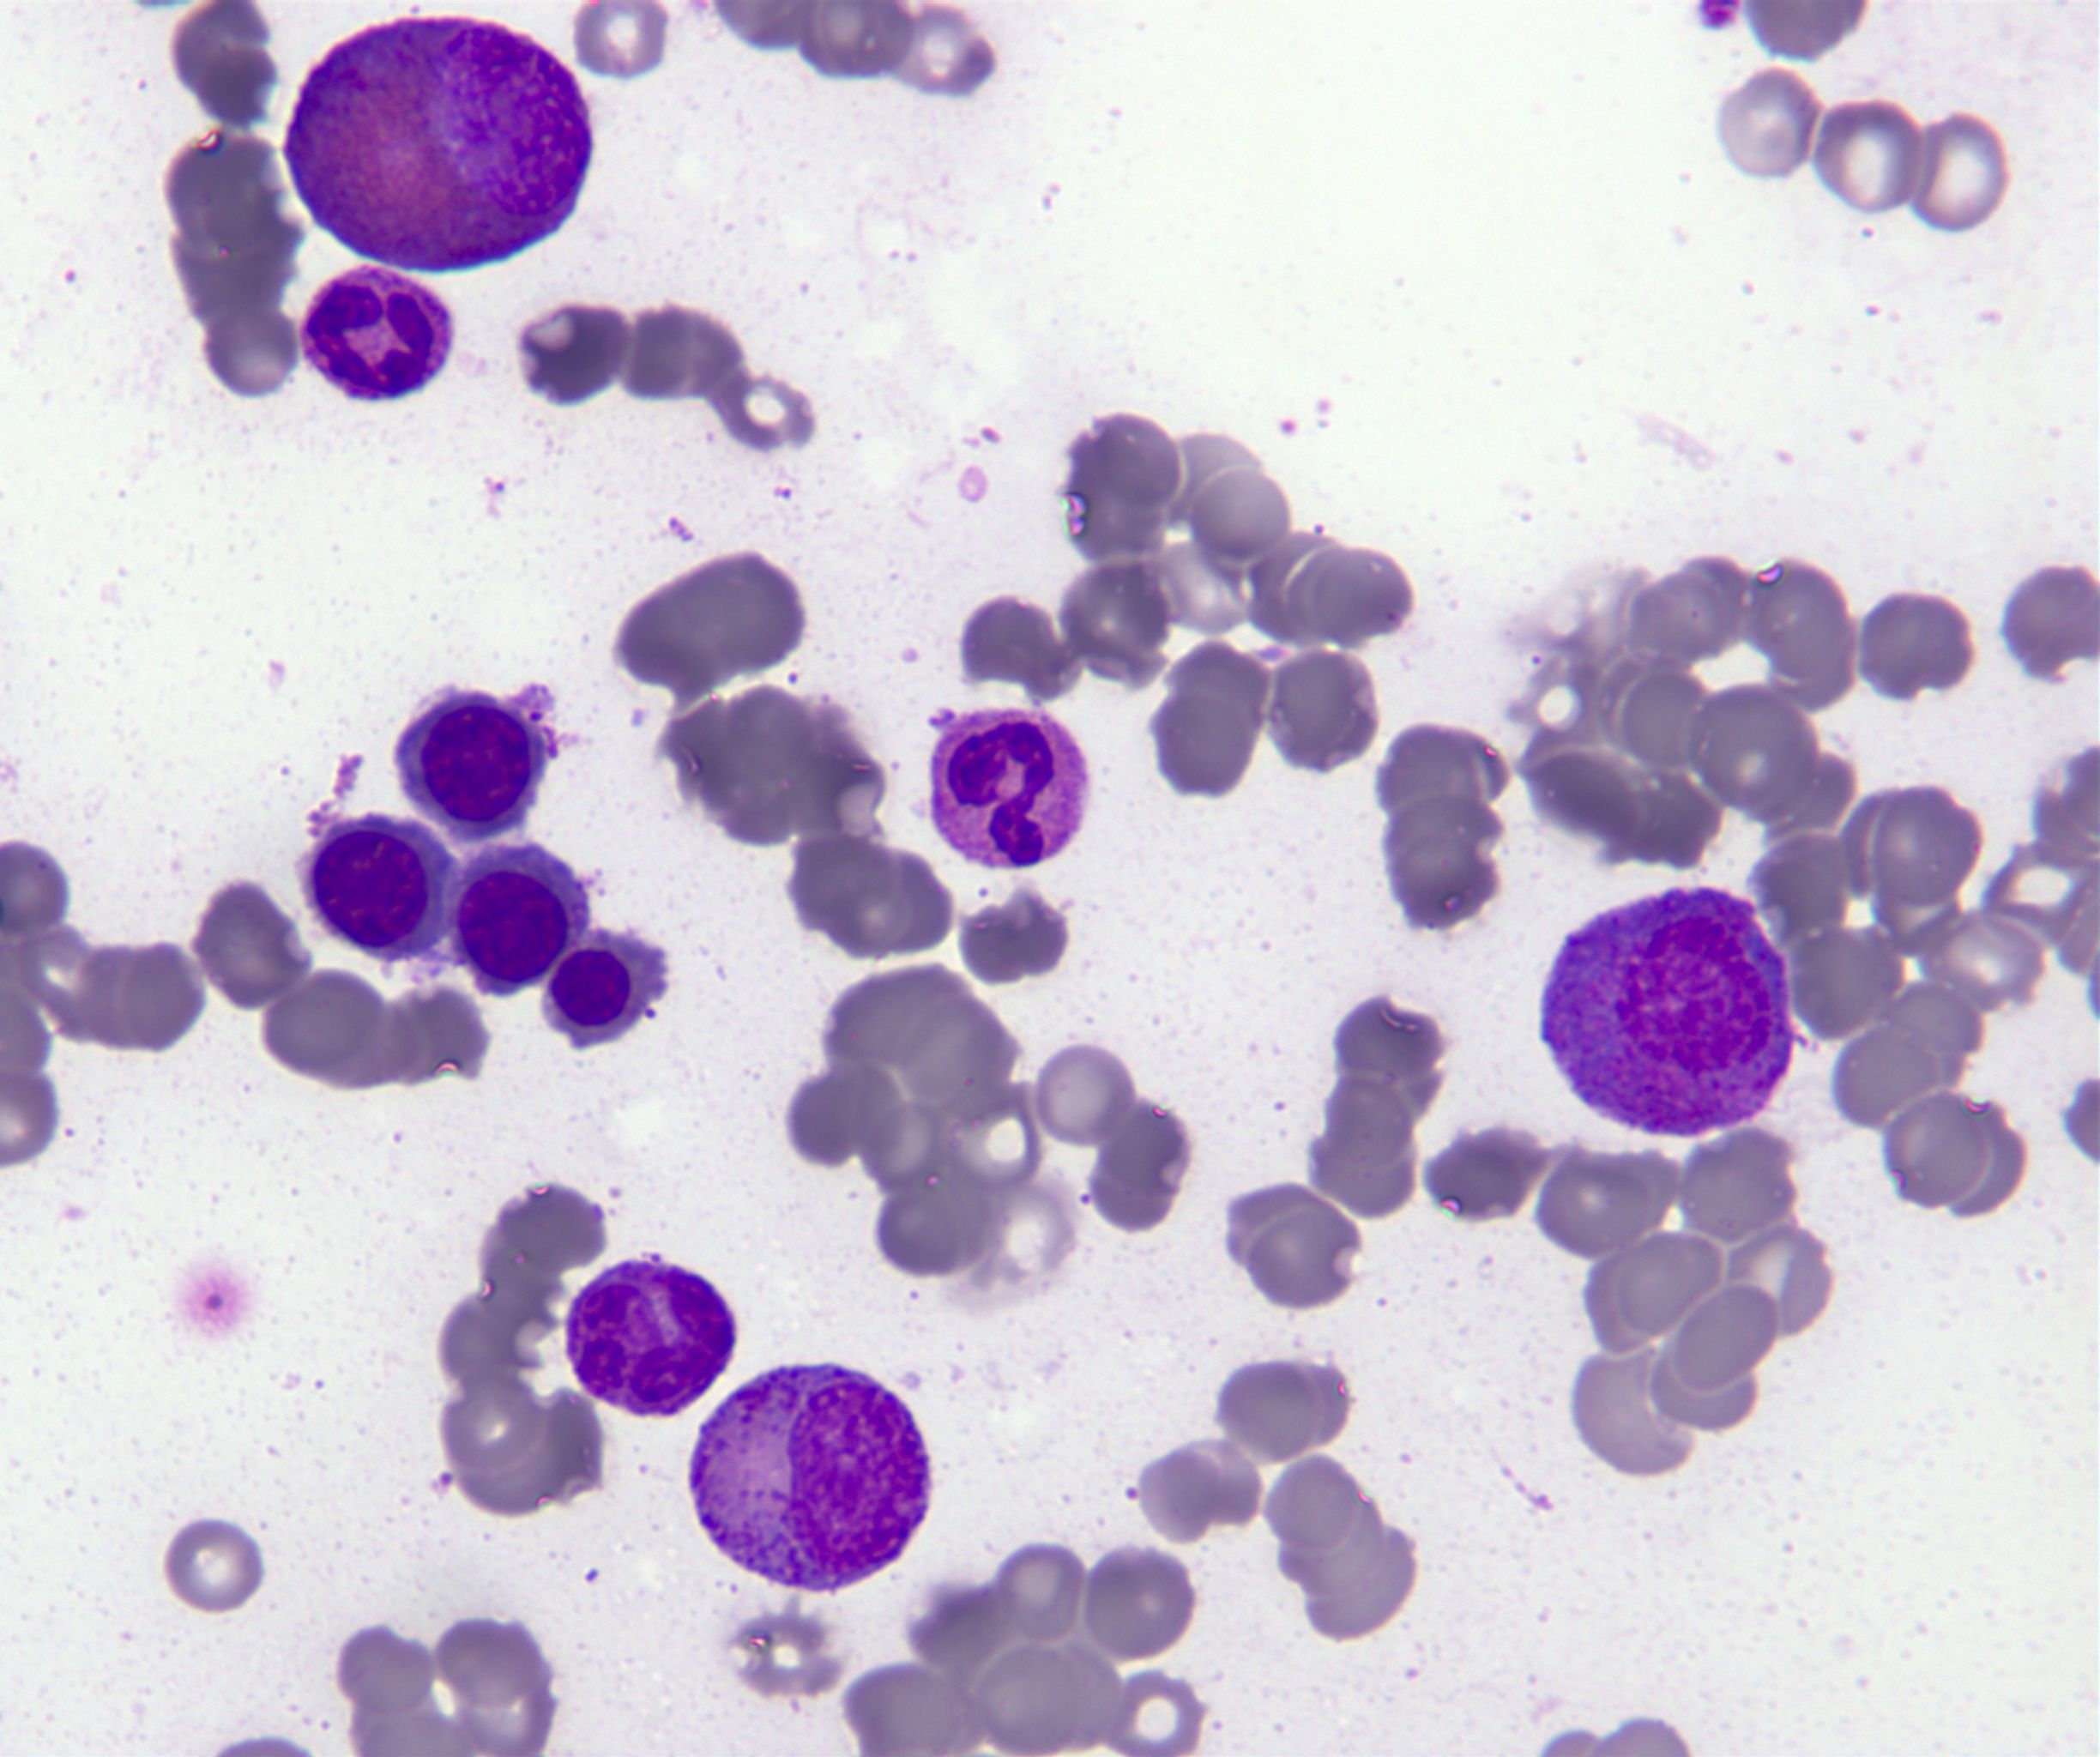23: (297, 813, 457, 965), (392, 691, 544, 850), (452, 846, 591, 998)
24: (541, 932, 663, 1050)
3: (1542, 886, 1793, 1136), (691, 1364, 933, 1590)
5: (933, 707, 1085, 867)
6: (567, 1261, 734, 1417), (302, 265, 452, 403)
E2: (286, 16, 591, 276)
